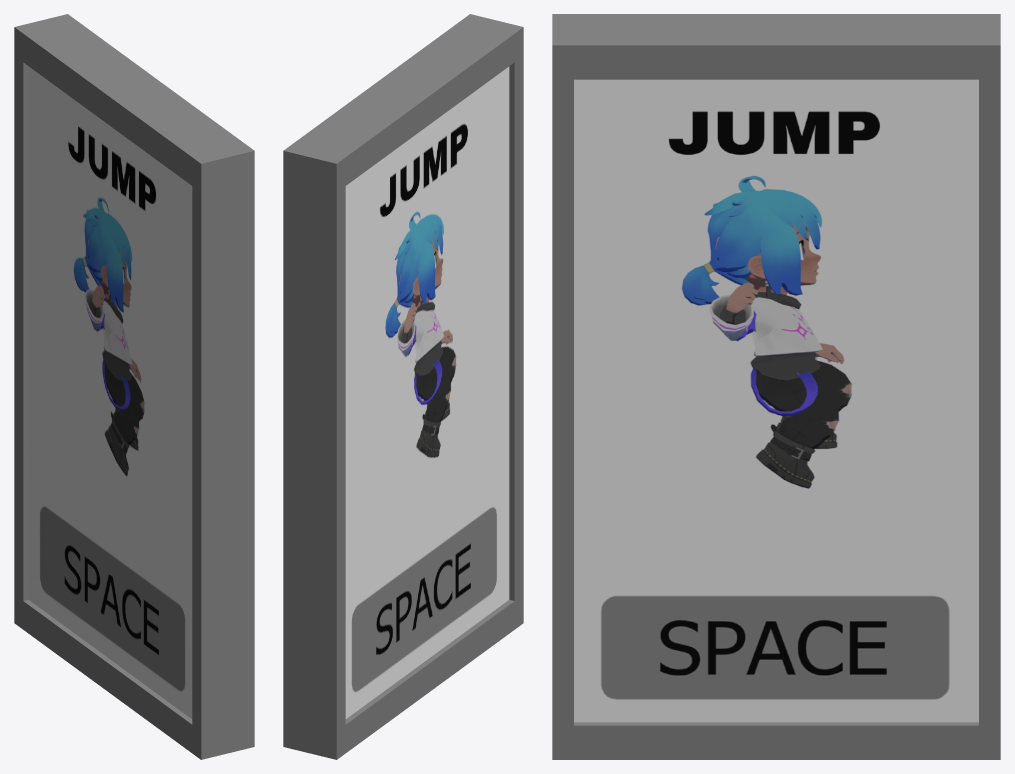
File: jumpBulletin.fbx
The picture shows the model from 3 angles, left to right: view 1: azimuth 30°, elevation 25°; view 2: azimuth 150°, elevation 25°; view 3: azimuth 270°, elevation 25°; orthographic projection. The views are drawn at different scales.
Parts seen in each view (by area): view 1: Cube; view 2: Cube; view 3: Cube.
Part boxes in pixels (x1,y1,x2,y2): Cube: (14,14,254,759); Cube: (283,14,523,759); Cube: (552,14,1000,759).
Size of the model in its own units: 33.07 by 352 by 200.
2 materials, 1 textured.
